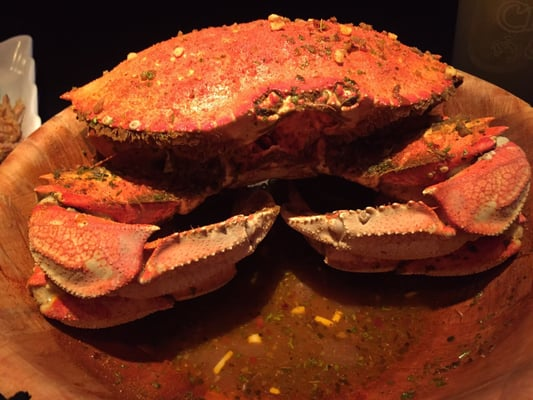pizza: (452, 0, 533, 106)
soup: (26, 15, 483, 216), (25, 172, 281, 329)
